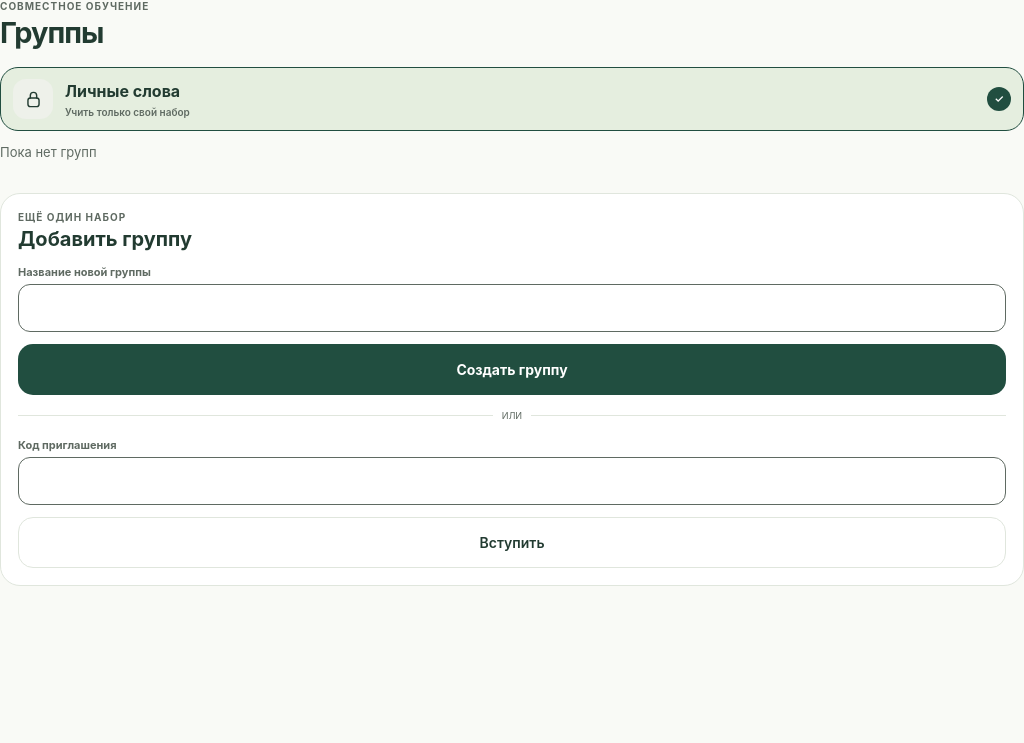
creates a trimmed group and refreshes the server-backed list
Type "  New group  " into the field labelled "Название новой группы" at [512, 308], box top-left (18, 284), bottom-right (1006, 332)
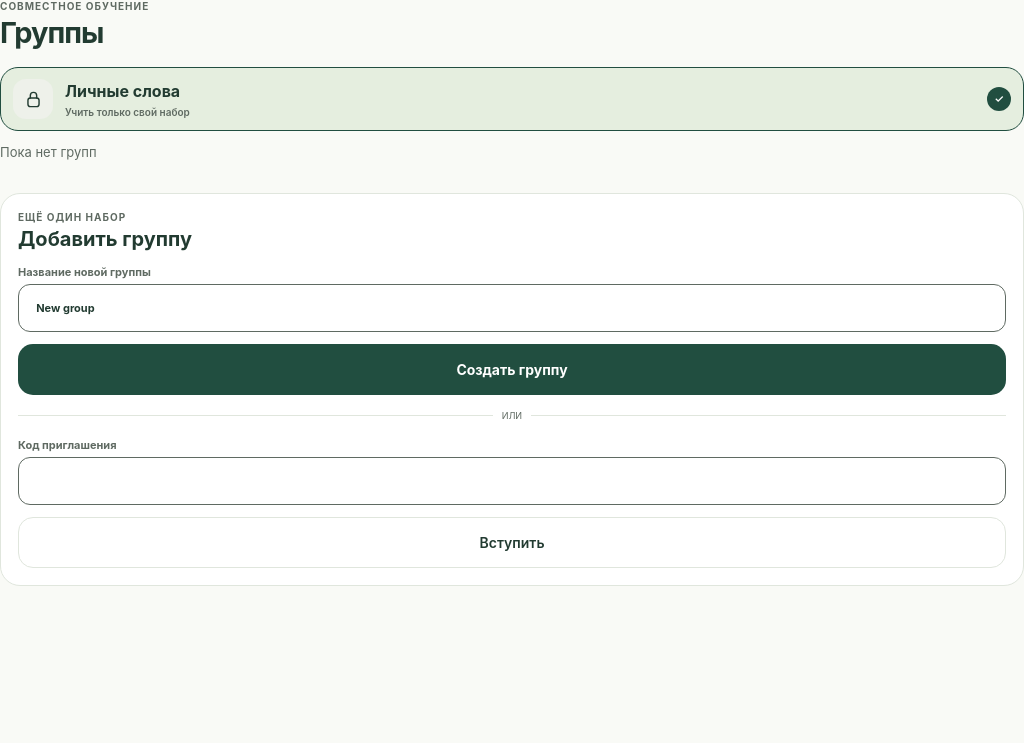
Click the button "Создать группу" at [512, 370], box top-left (18, 344), bottom-right (1006, 395)
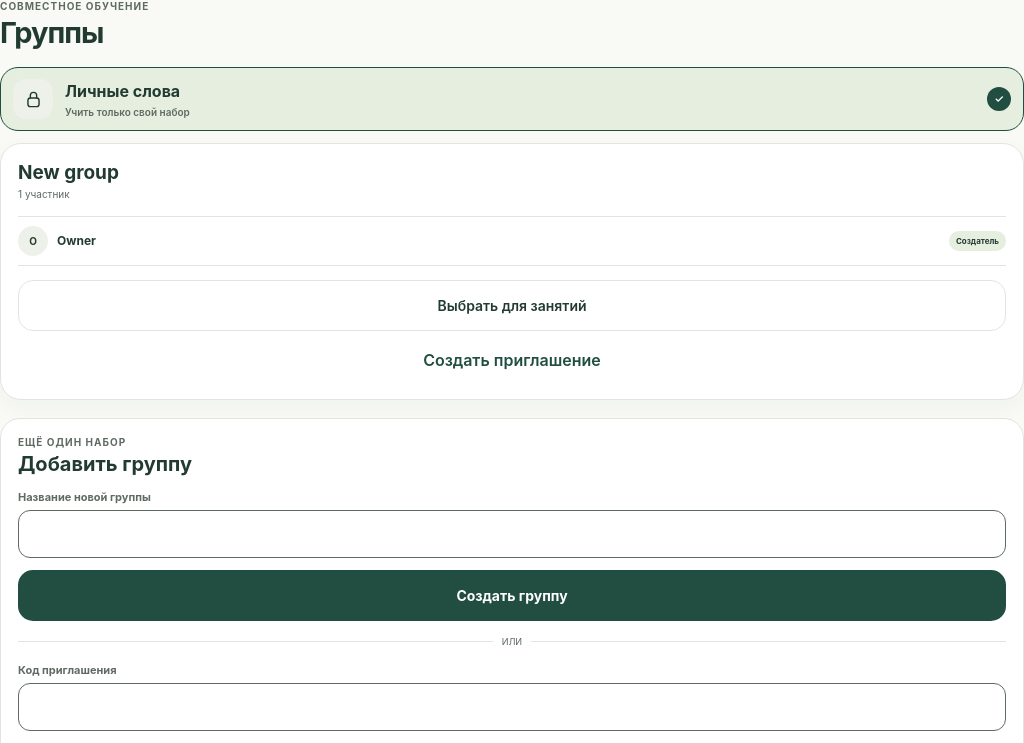
Now the heading "New group" is shown, box top-left (18, 161), bottom-right (119, 185)
